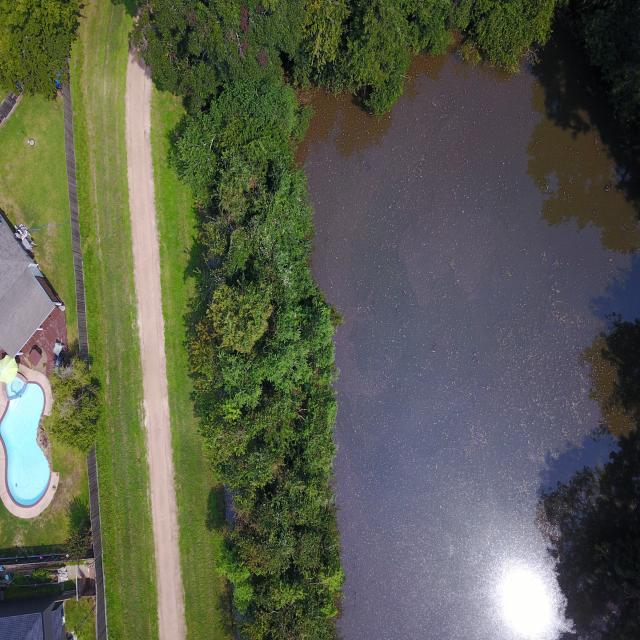fire: (299, 35, 640, 639)
